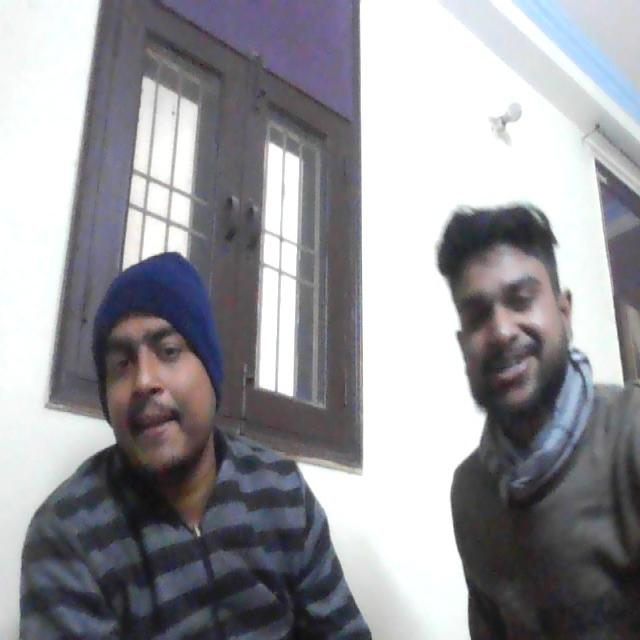real: (95, 248, 223, 489), (449, 192, 571, 423)
